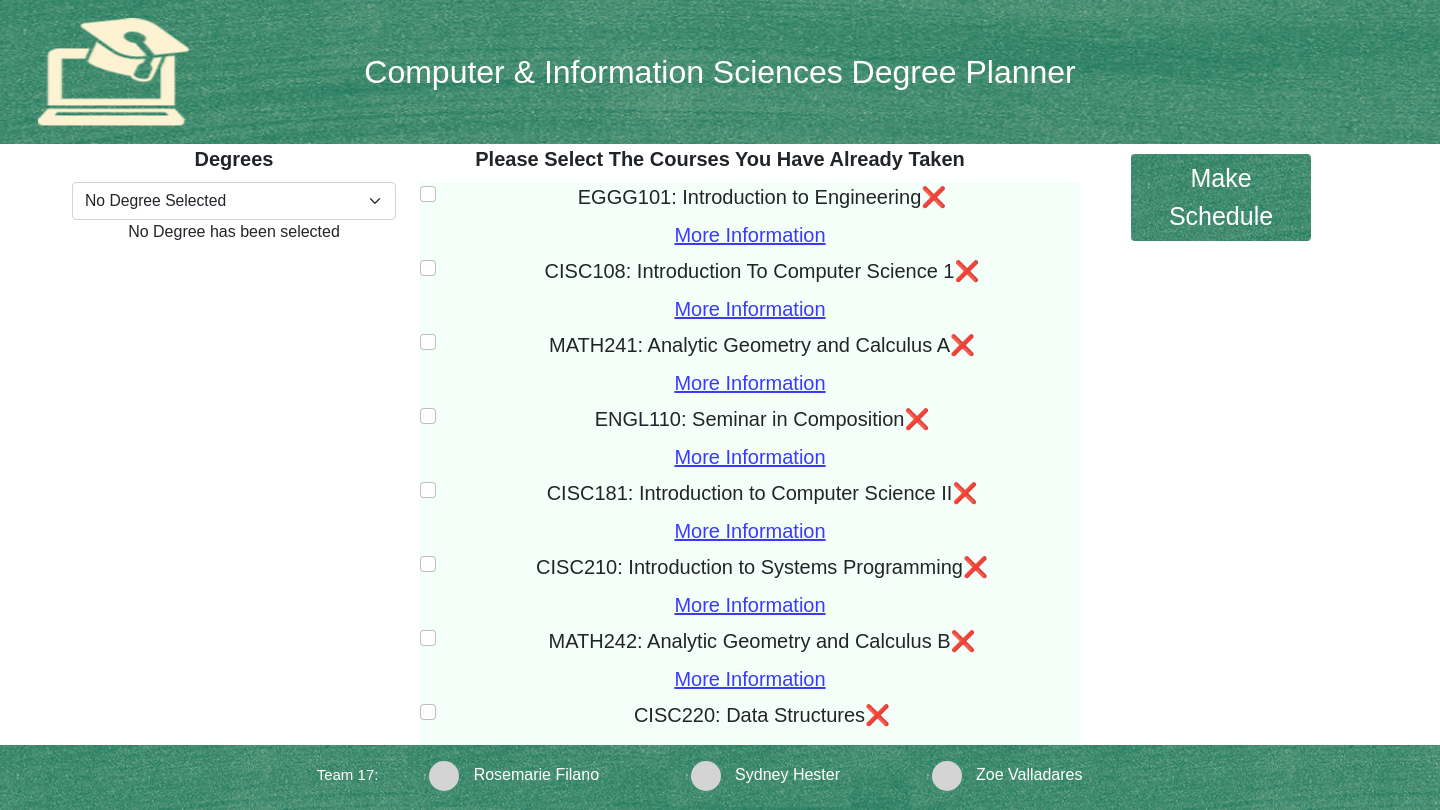
Testing everything on the homepage › Testing the Select Taken UI › Testing to see if the user can check the check box and change the status of taken
Click the checkbox labelled "EGGG101: Introduction to Engineering❌". click: (428, 194)
box: left=420, top=186, right=436, bottom=202
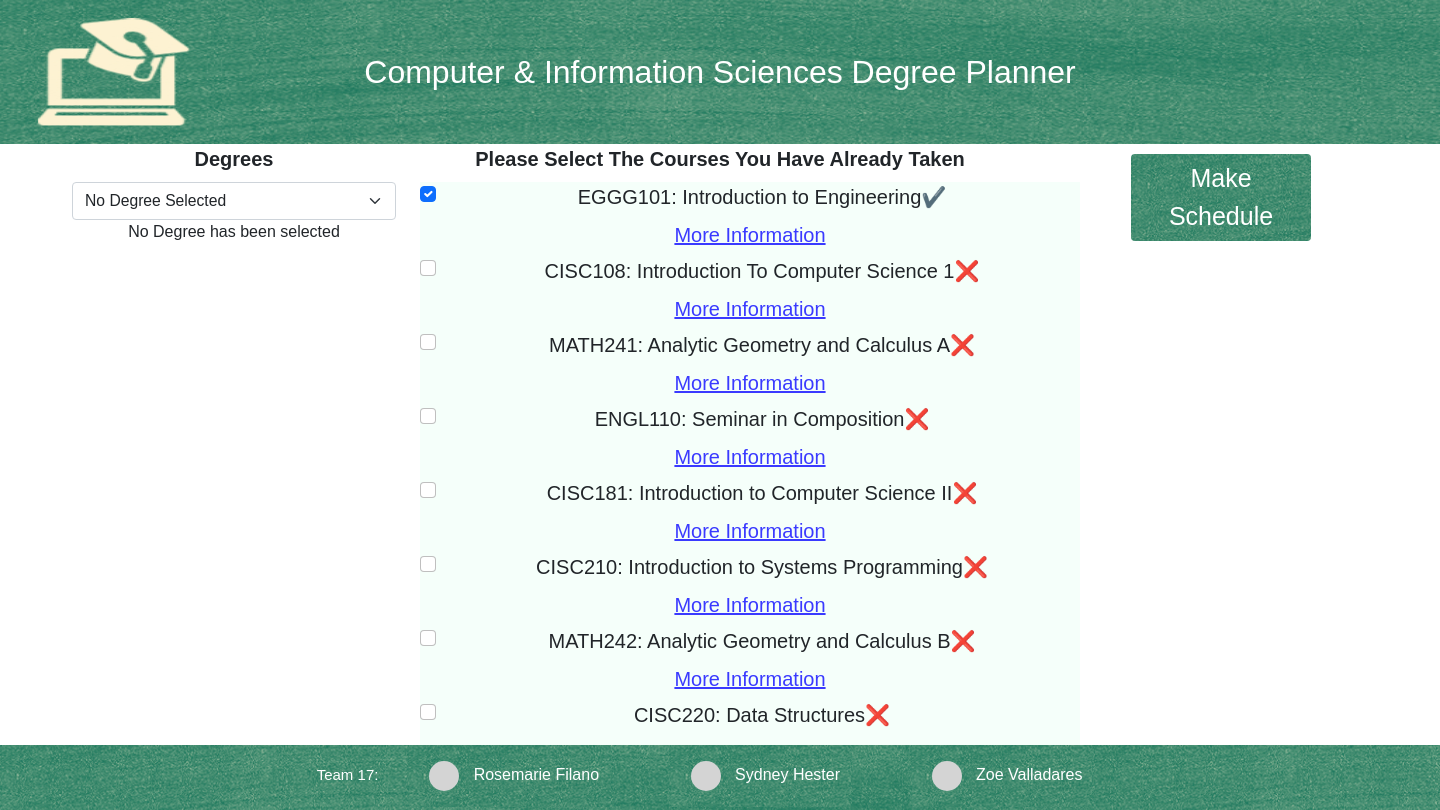
Result: the text "EGGG101: Introduction to Engineering✔️" is shown at left=578, top=182, right=946, bottom=212
